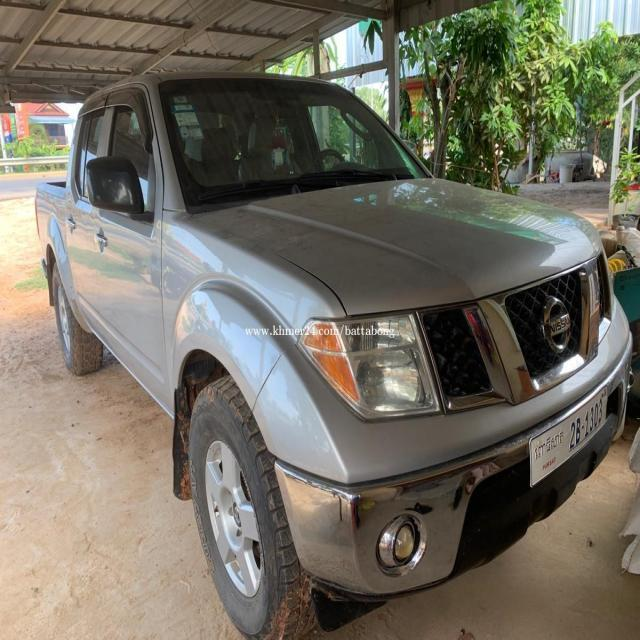Pursat: (534, 428, 564, 461)
